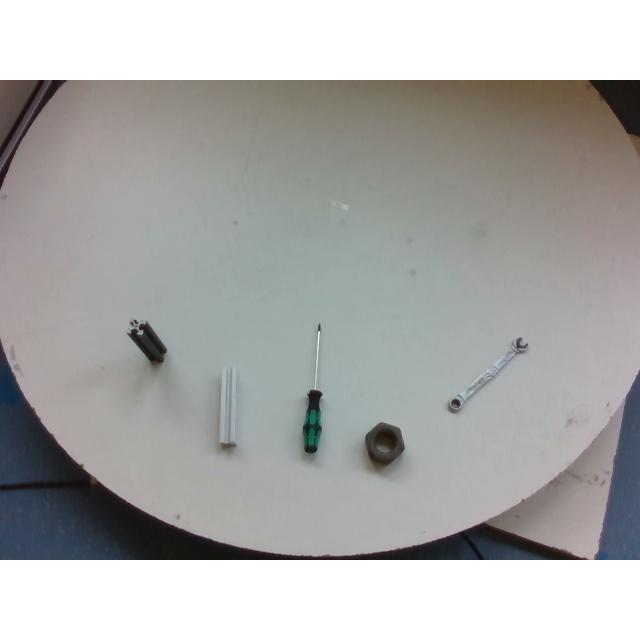F20_20_B: (126, 318, 166, 362)
F20_20_G: (220, 366, 237, 446)
M30: (364, 422, 404, 464)
Screwdriver: (303, 322, 323, 453)
Wrench: (448, 337, 528, 413)
